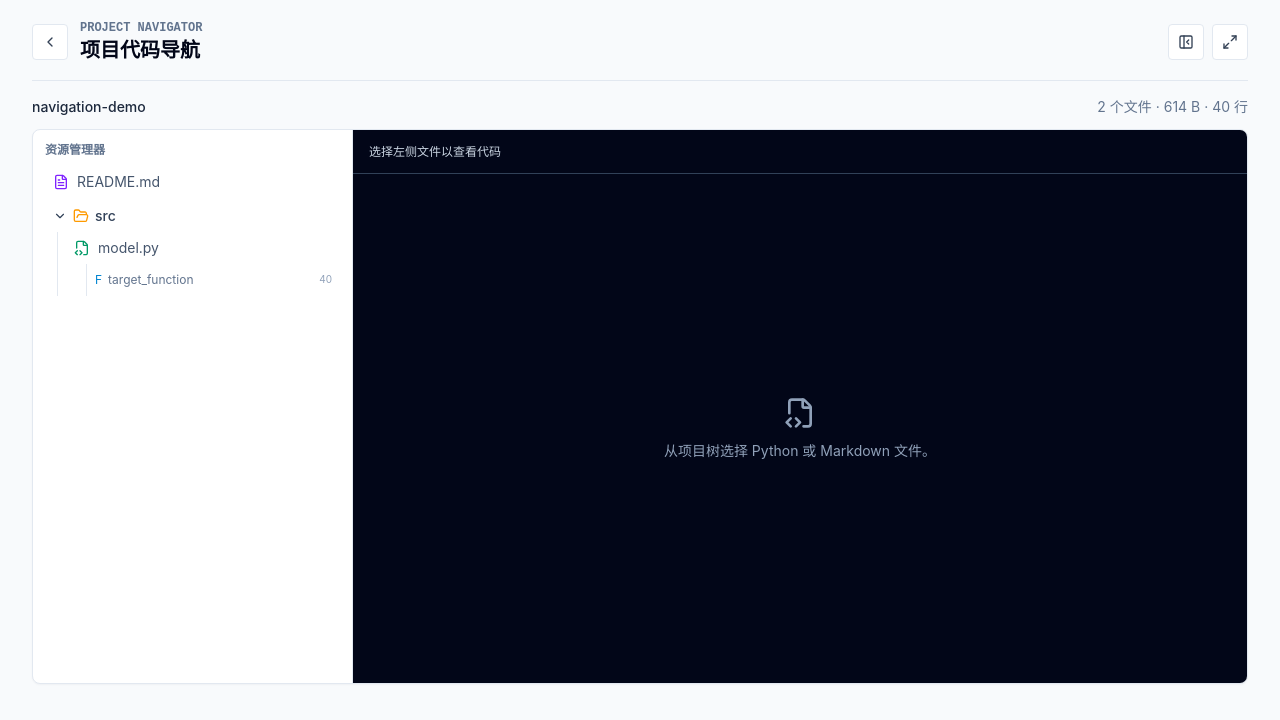
project code navigation › clears the previous symbol target when a normal file is selected
This screenshot has width=1280, height=720.
Step 1. Click the button "F target_function 40" → (214, 280), box [87, 268, 340, 292]
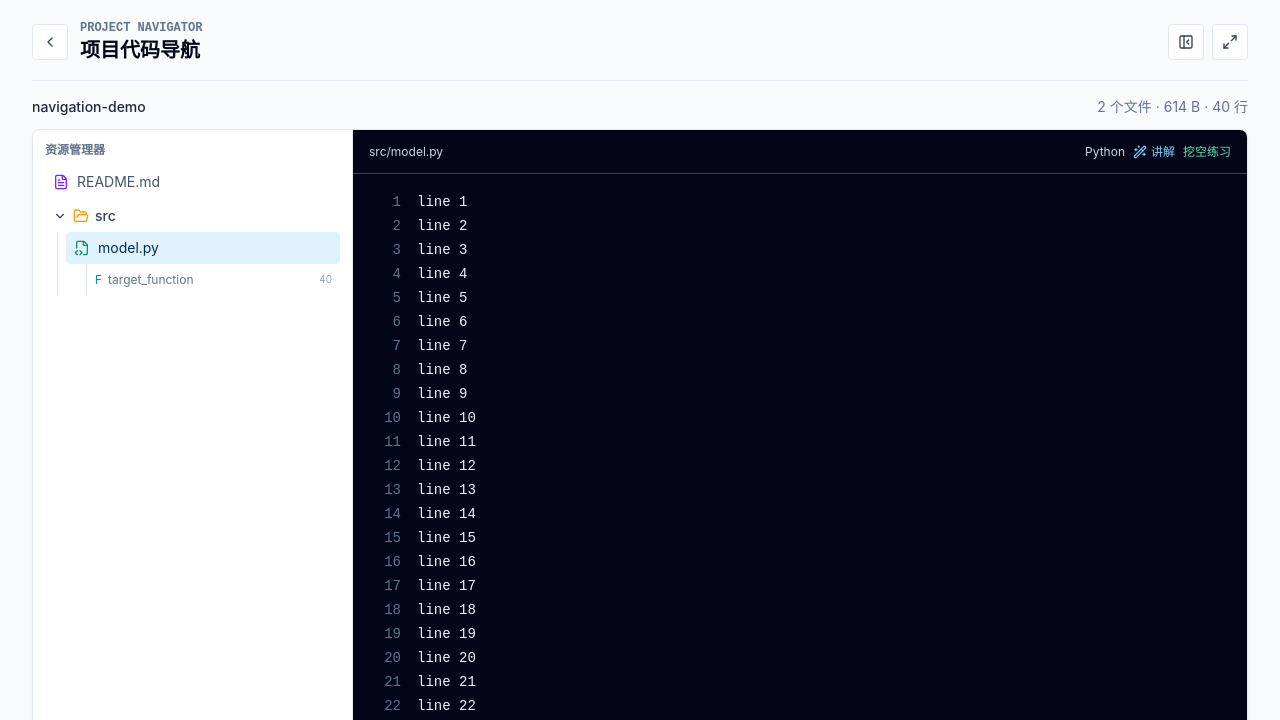
Step 2. Click the button "README.md" → (119, 182), box [45, 166, 340, 198]
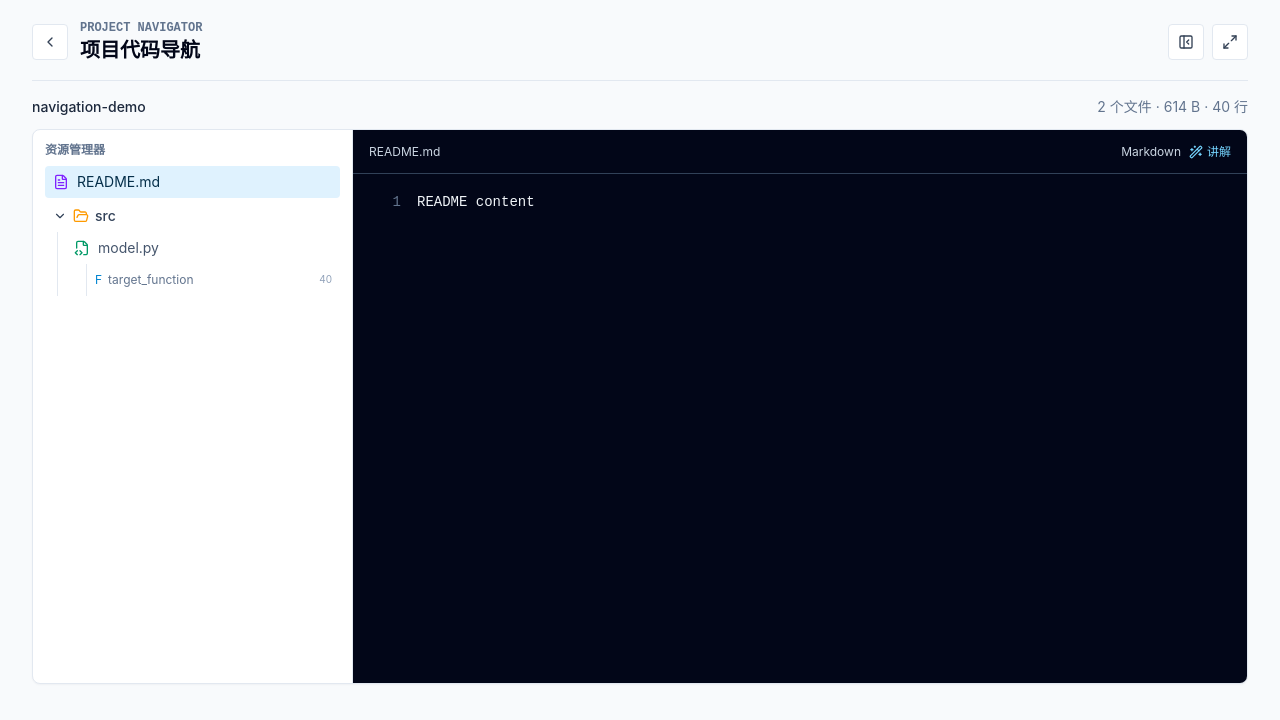
Expected: the text "1 README content" is shown, [393, 194, 535, 210]
